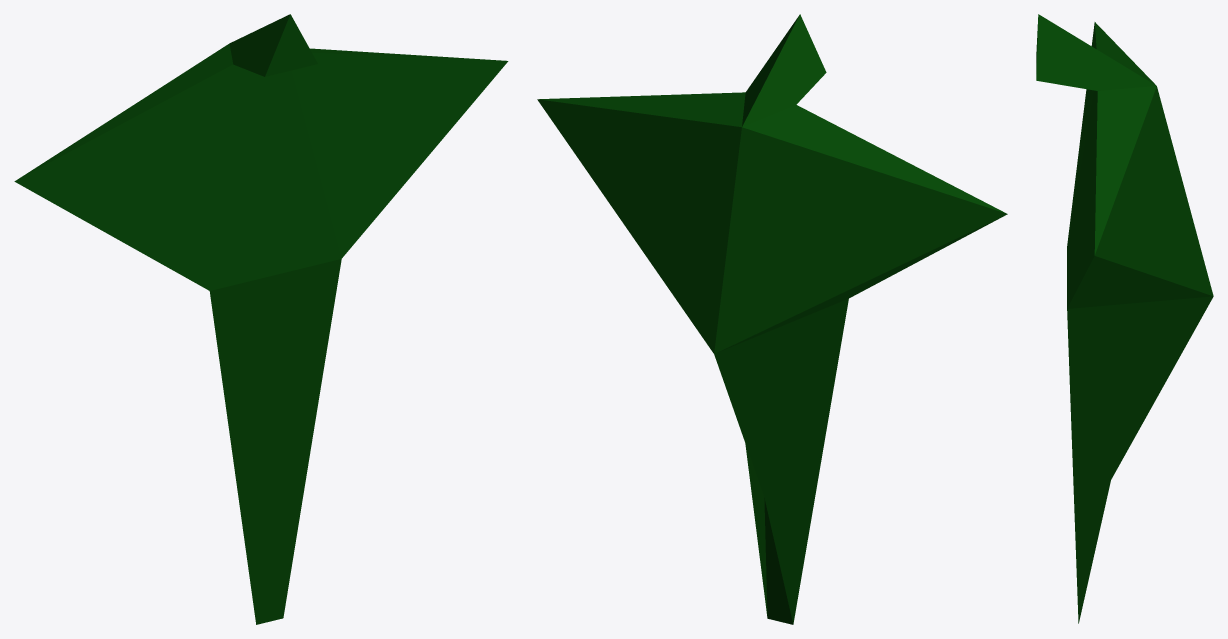
Rendered from Friendly_Ship.glb.
3 views of the same model, side by side, from view 1: azimuth 30°, elevation 25°; view 2: azimuth 150°, elevation 25°; view 3: azimuth 270°, elevation 25° (orthographic). The views are drawn at different scales.
Parts seen in each view (by area): view 1: Friendly Space Fighter; view 2: Friendly Space Fighter; view 3: Friendly Space Fighter.
Boxes of the visible parts, x1=… form: Friendly Space Fighter: x1=14, y1=14, x2=508, y2=624; Friendly Space Fighter: x1=537, y1=14, x2=1007, y2=624; Friendly Space Fighter: x1=1036, y1=14, x2=1213, y2=623.
Bounding box in the file's own units: 0.2245 × 0.2704 × 0.0719.
